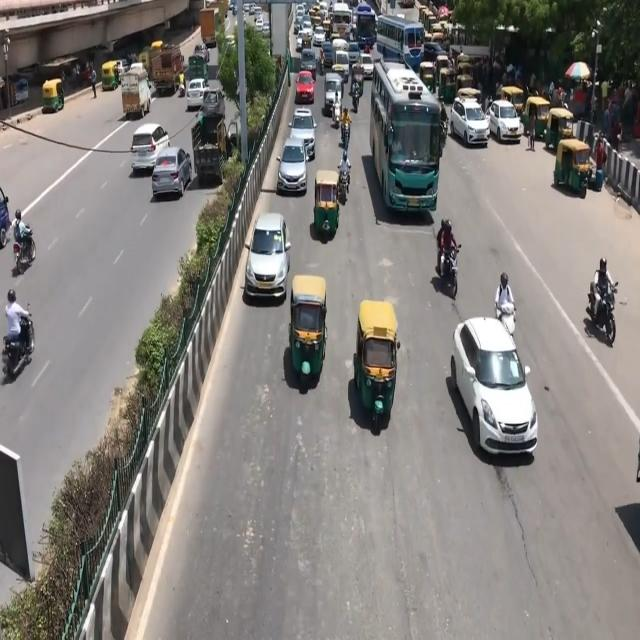Bike: (587, 247, 630, 367), (423, 213, 472, 308), (336, 154, 359, 206)
